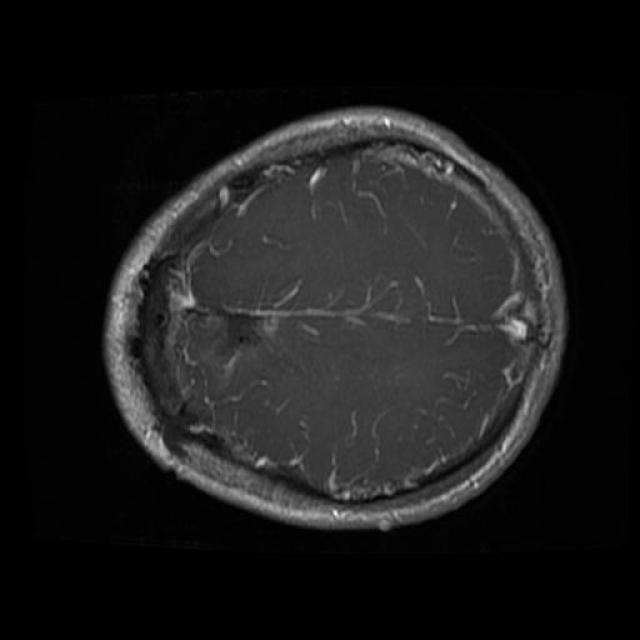Glioma: (218, 316, 267, 362)
